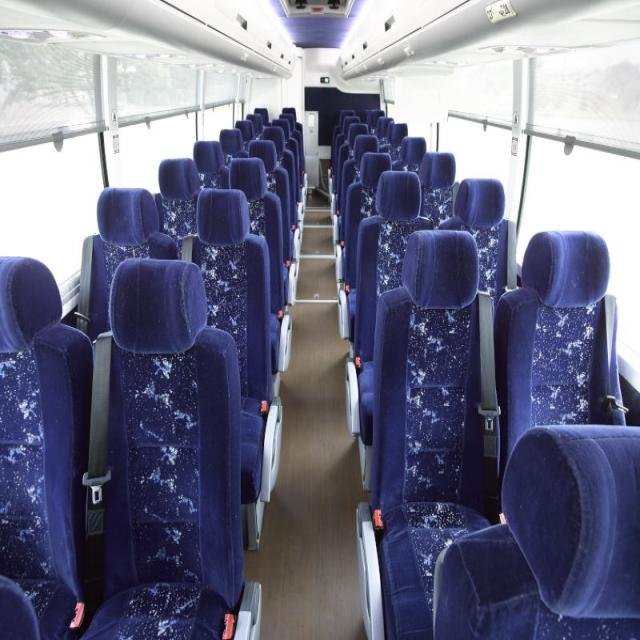empty-seat-frontal: (84, 259, 252, 640), (356, 230, 511, 640)
